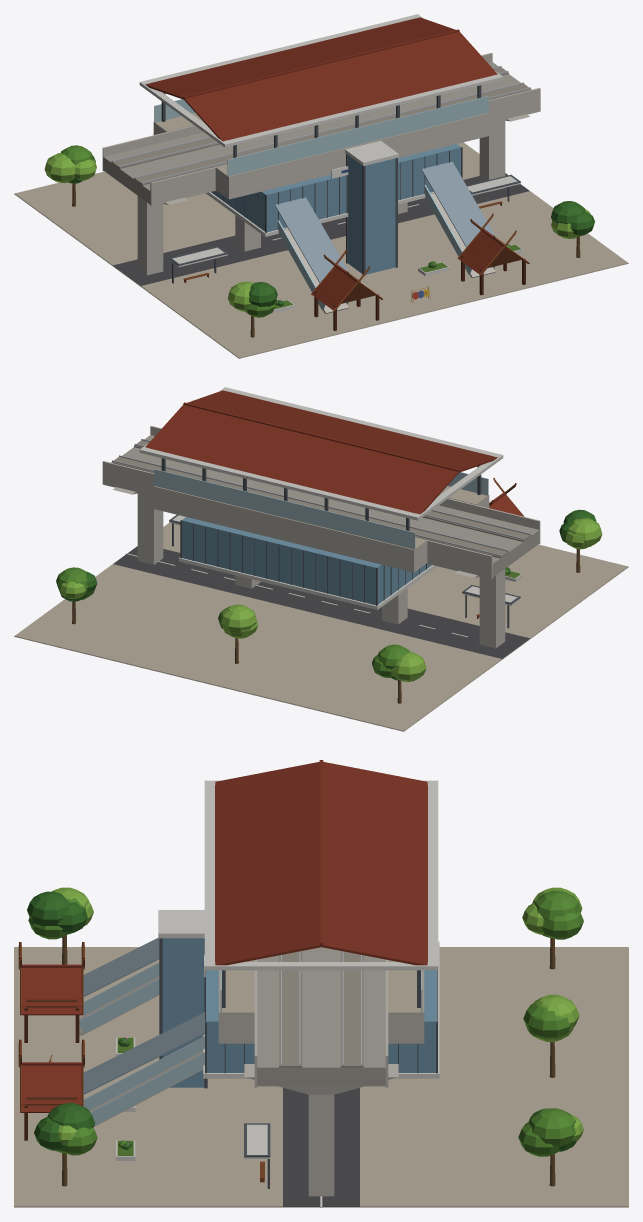
The model's file is station.glb.
3 renders of one model, top to bottom at view 1: azimuth 30°, elevation 25°; view 2: azimuth 150°, elevation 25°; view 3: azimuth 270°, elevation 25°, orthographic. The views are drawn at different scales.
Visible parts, largest first — view 1: body; view 2: body; view 3: body.
Part boxes in pixels (box(x1,y1,x2,y2)): body: box(14, 14, 628, 358); body: box(14, 387, 628, 731); body: box(14, 760, 628, 1207).
Bounding box in the file's own units: 47.95 × 19.48 × 47.9.
